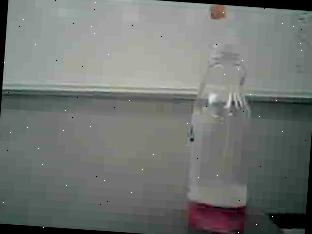hazard: (180, 2, 268, 234)
